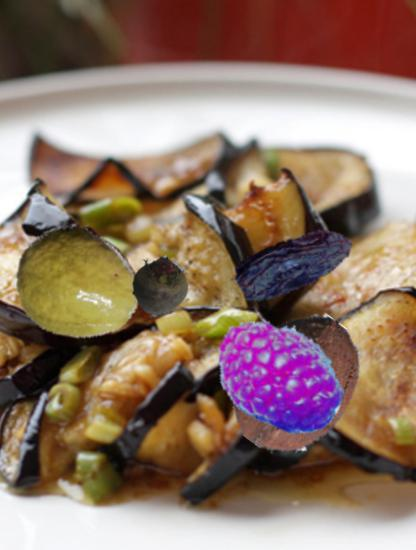Beetroot: (128, 255, 192, 319)
Cocos: (221, 308, 370, 457)
Dates: (233, 203, 355, 325)
Guava: (15, 218, 143, 346)
Raspberry: (212, 306, 350, 444)
